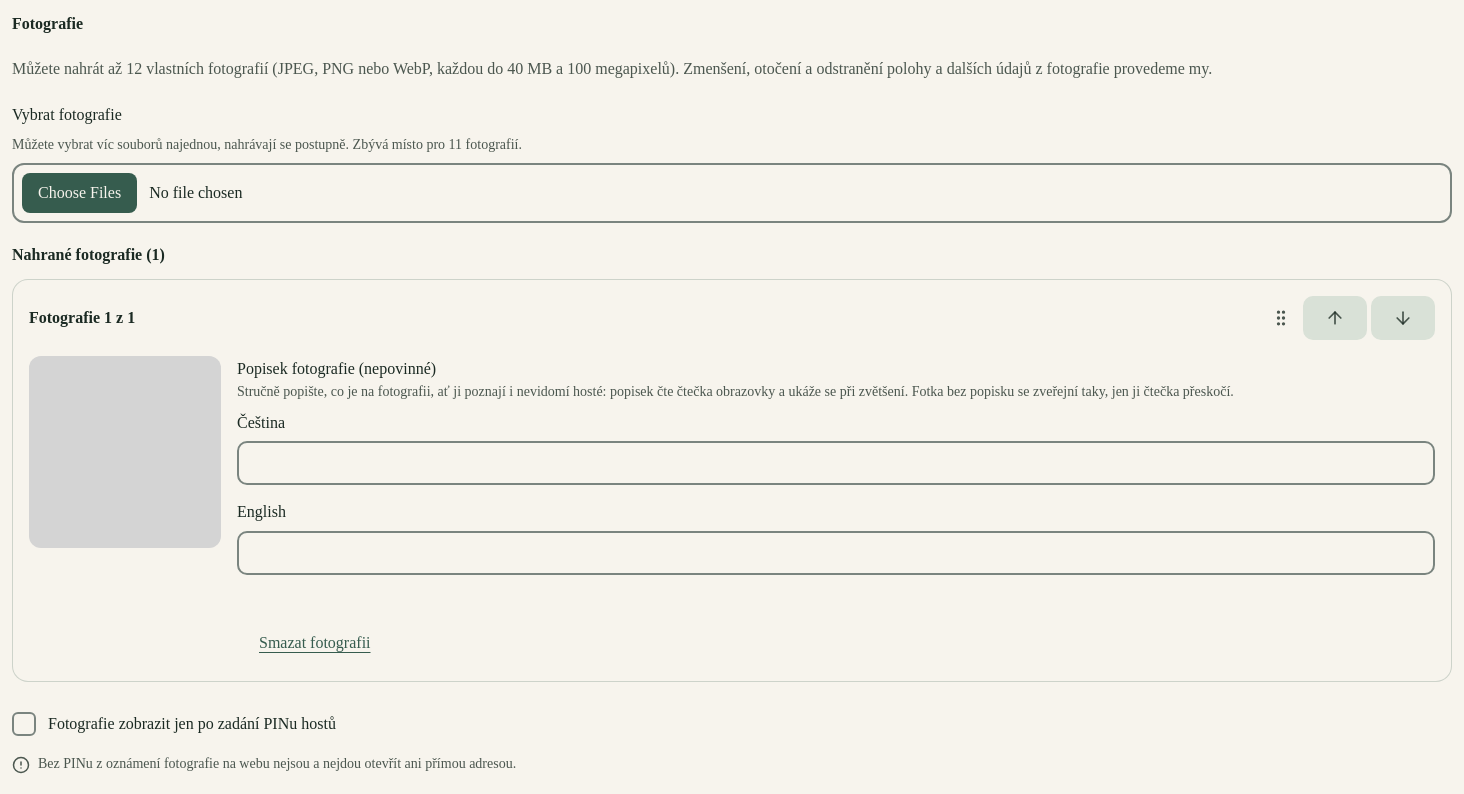
Scenario: PhotosPanel › selhání uložení popisku se hlásí slovy
The image size is (1464, 794).
Type "Pár" into the field labelled "Čeština" at (836, 463), box top-left (237, 441), bottom-right (1435, 485)
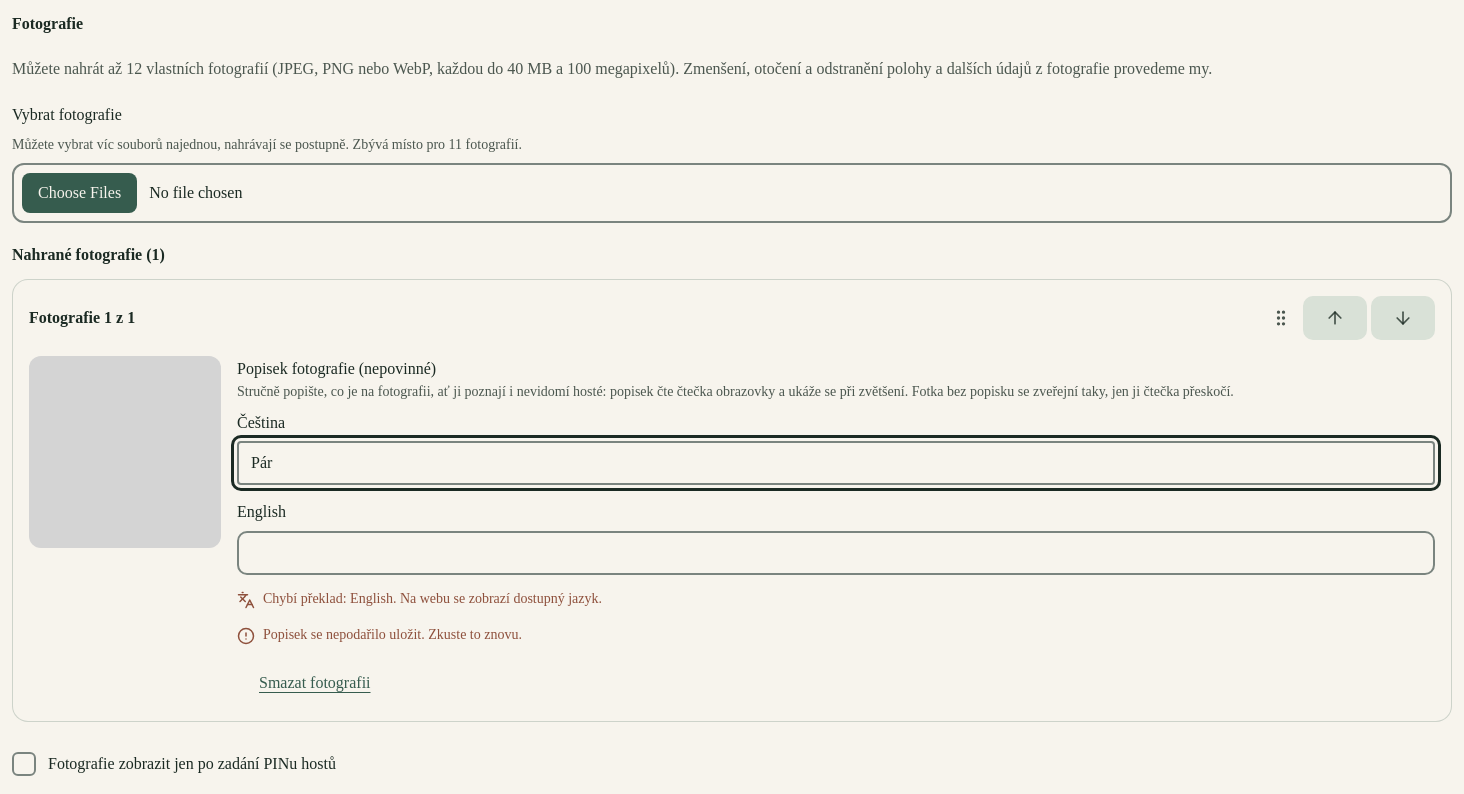
Now the text "Popisek se nepodařilo uložit. Zkuste to znovu." is shown, box top-left (263, 625), bottom-right (522, 645)
